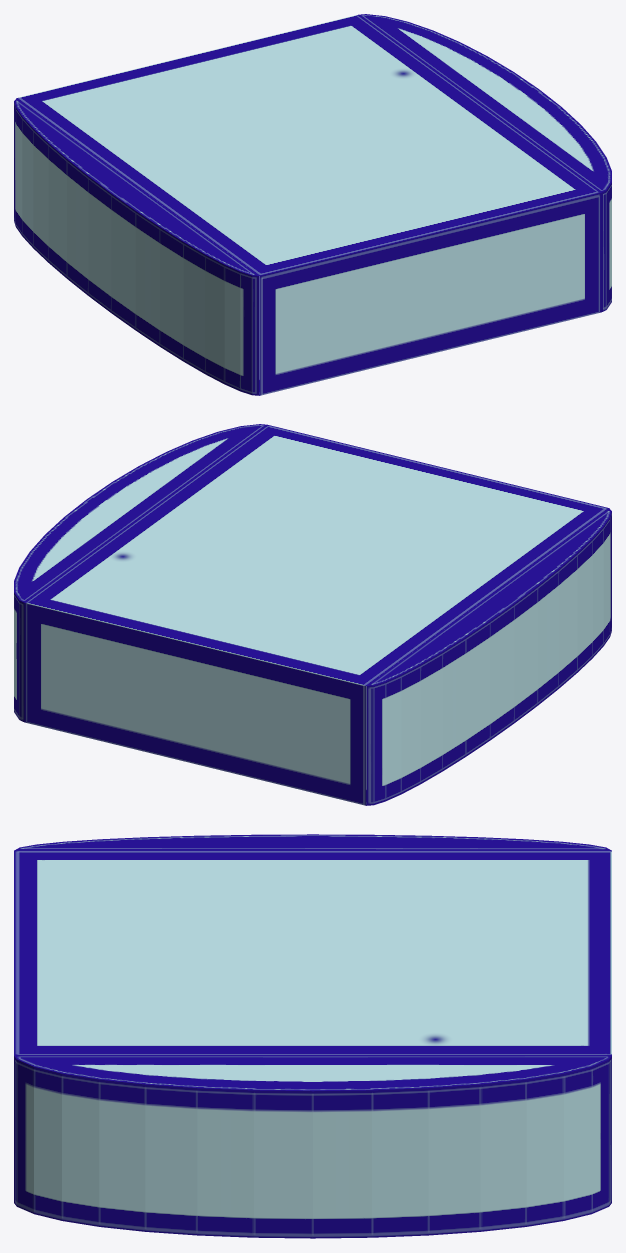
The model's file is Ficha_BaseDatos_v1.fbx.
The picture shows the model from 3 angles, top to bottom: view 1: azimuth 30°, elevation 25°; view 2: azimuth 150°, elevation 25°; view 3: azimuth 270°, elevation 25°; orthographic projection. The views are drawn at different scales.
Parts seen in each view (by area): view 1: Ficha_BaseDatos_v1; view 2: Ficha_BaseDatos_v1; view 3: Ficha_BaseDatos_v1.
Part boxes in pixels (x1,y1,x2,y2): Ficha_BaseDatos_v1: (14,14,611,395); Ficha_BaseDatos_v1: (14,424,611,805); Ficha_BaseDatos_v1: (14,834,611,1238).
Bounding box in the file's own units: 163 × 43.5 × 160.
